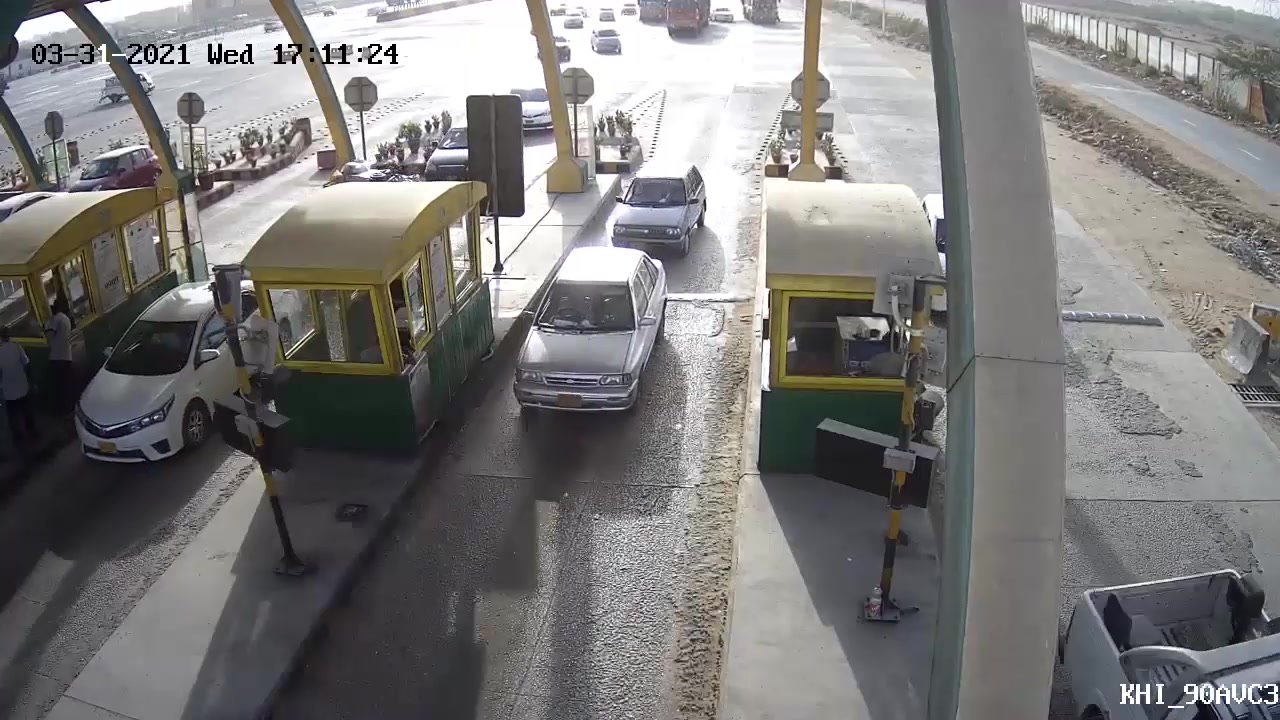F1: (481, 243, 679, 469)
